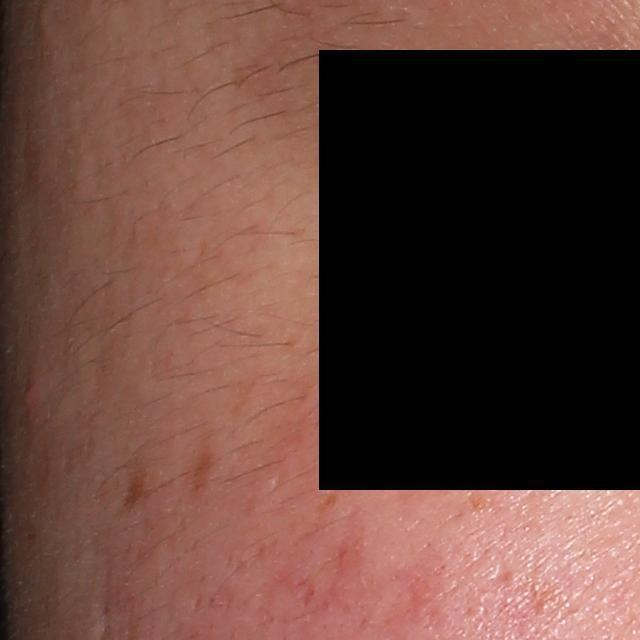melasma: (117, 458, 157, 518), (189, 438, 214, 497)
papule: (15, 372, 43, 413)
